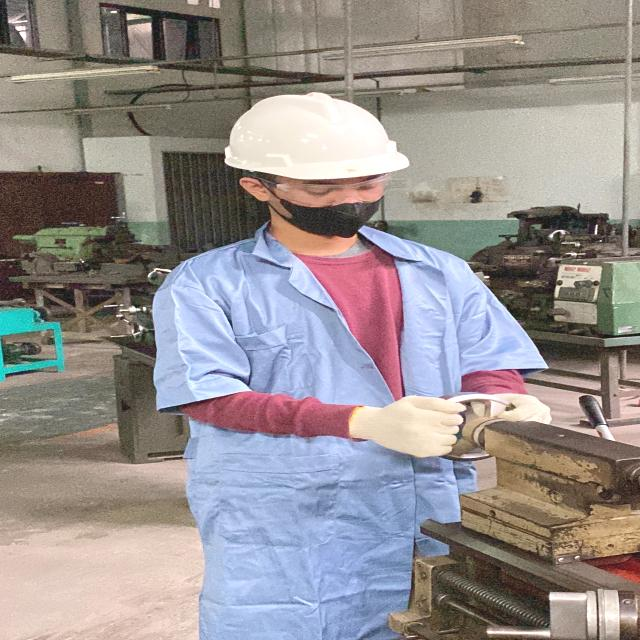face_mask: (268, 173, 396, 240)
glasses: (268, 172, 401, 204)
hand_glove: (362, 392, 470, 462)
head_helmet: (220, 89, 415, 181)
person: (123, 93, 553, 640)
